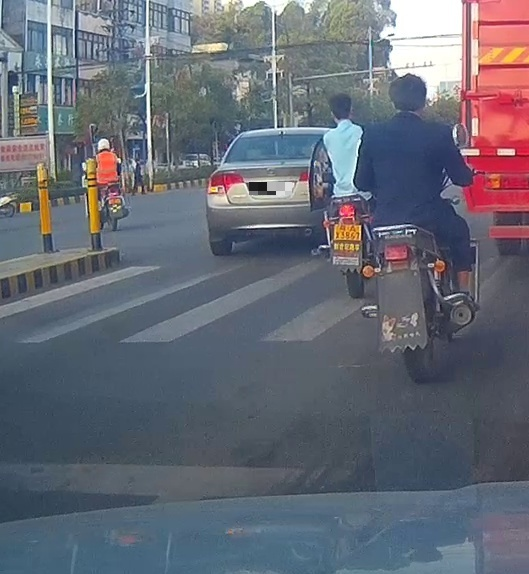L_light: (208, 172, 244, 194)
R_light: (299, 171, 332, 191)
T_light: (272, 135, 292, 140)
day-left: (208, 127, 331, 256)
plate_1: (249, 182, 292, 195)
